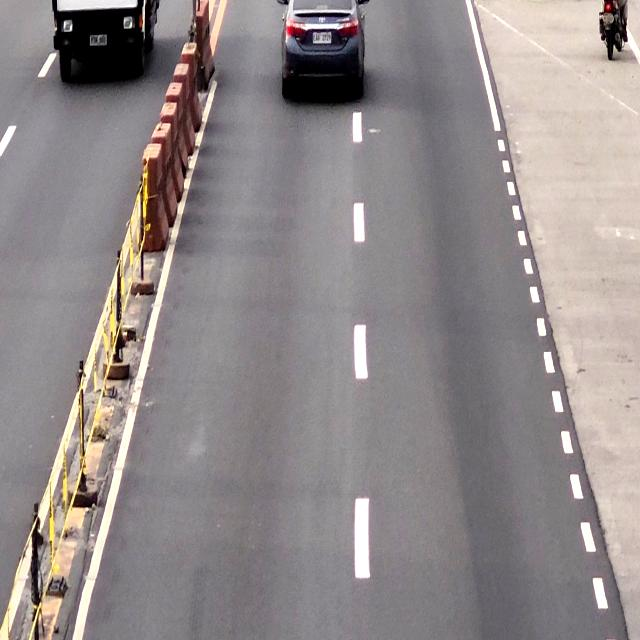Car: (283, 0, 364, 102)
License-Plate: (312, 28, 334, 46)
